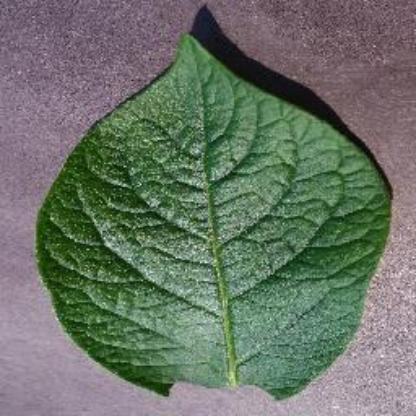Healthy-plant: (29, 32, 395, 410)
